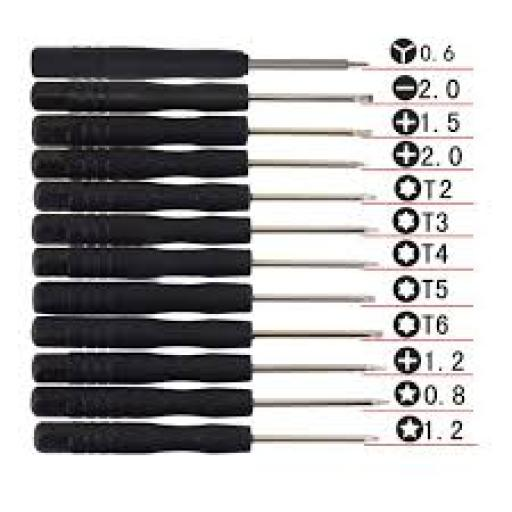screwdriver: (34, 318, 381, 350), (32, 82, 370, 112), (32, 47, 368, 77), (32, 388, 386, 416), (33, 354, 385, 382), (32, 218, 376, 246), (33, 249, 377, 277), (34, 284, 377, 312), (33, 118, 369, 146), (34, 150, 364, 177), (35, 184, 372, 210)
